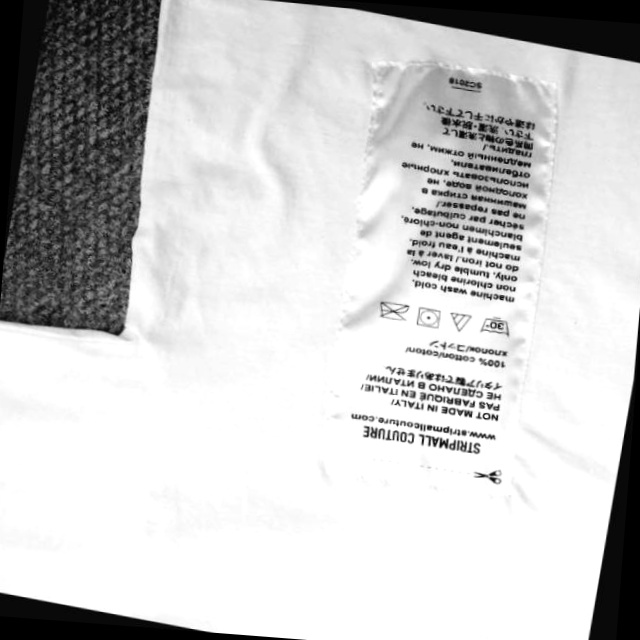30C: (478, 314, 515, 337)
DN_iron: (373, 298, 410, 326)
non_chlorine_bleach: (448, 310, 474, 333)
tumble_dry_low: (414, 305, 447, 329)
